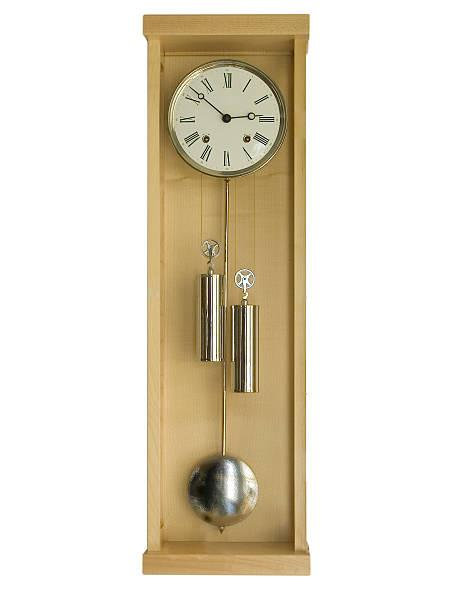clock: (167, 63, 291, 178)
